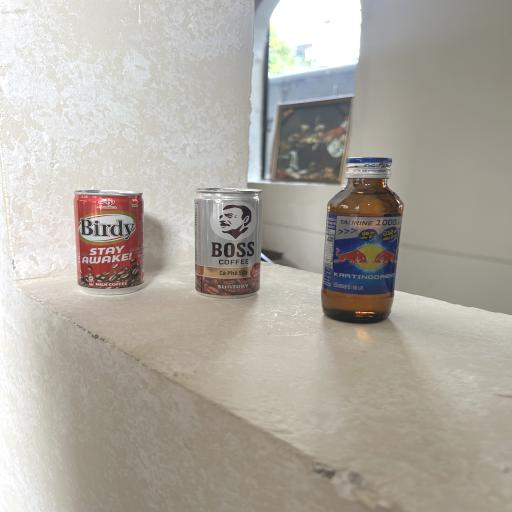birdy: (74, 186, 148, 296)
bo_huc: (322, 155, 404, 325)
boss_coffee: (192, 188, 264, 298)
